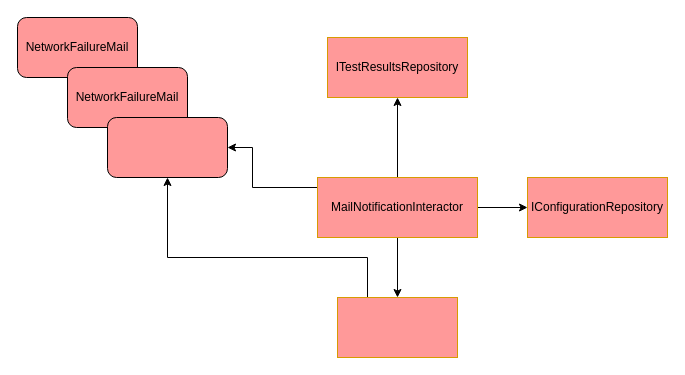
This 685x375 diagram has some shape labels left out. Each missing label, with the centre of its shape:
IMailClient: point 397,327
InternalErrorMail: point 167,147
